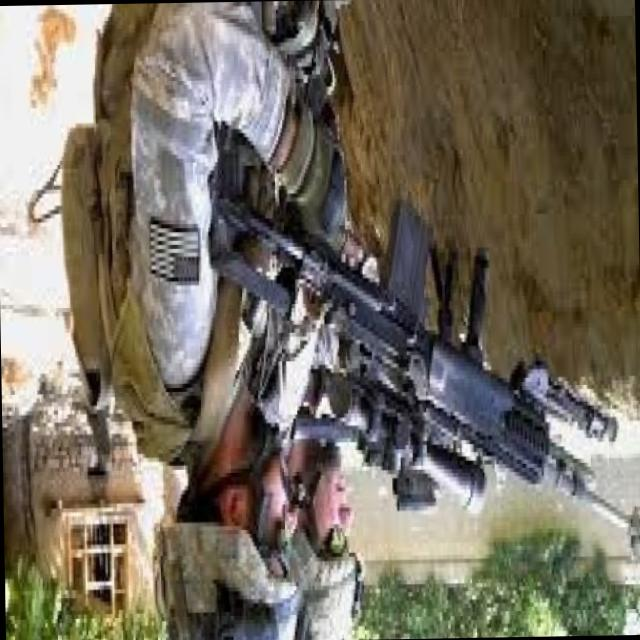Gun: (194, 181, 640, 554)
